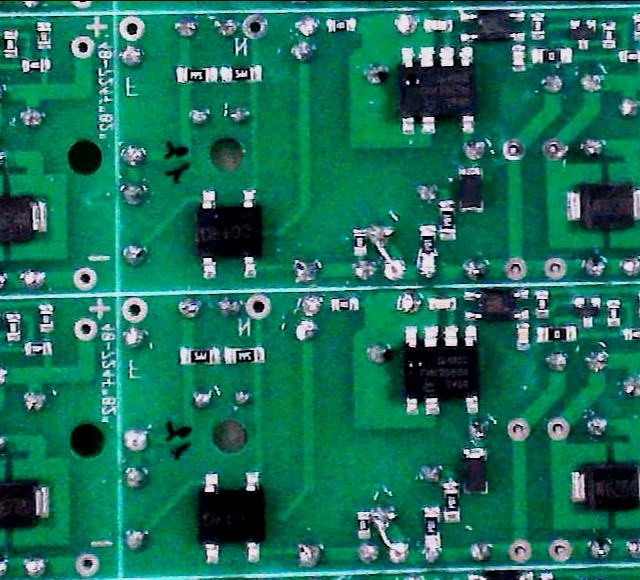chip-capacitor: (516, 322, 529, 349), (424, 18, 452, 30), (428, 297, 456, 309), (511, 46, 525, 69)
chip-resistor: (220, 64, 261, 82), (176, 65, 217, 82), (443, 481, 460, 522), (438, 199, 454, 239), (424, 507, 440, 546), (532, 47, 571, 62), (179, 348, 218, 363), (225, 347, 263, 362), (538, 326, 575, 341), (420, 223, 436, 257), (6, 312, 20, 340), (24, 341, 52, 355), (530, 11, 544, 38), (328, 17, 356, 30), (601, 21, 615, 47), (3, 30, 17, 56), (330, 297, 358, 310), (22, 58, 49, 71), (607, 299, 620, 326), (357, 511, 370, 538), (40, 304, 53, 331), (353, 228, 366, 254), (38, 22, 51, 48), (536, 290, 548, 317), (618, 49, 640, 62), (624, 327, 640, 340)
diode: (565, 181, 640, 227), (569, 462, 640, 508), (0, 479, 50, 527), (0, 194, 46, 243), (463, 447, 487, 494), (459, 166, 482, 211)
ic: (401, 323, 479, 416), (402, 46, 474, 133), (198, 470, 264, 562), (195, 187, 260, 279), (461, 287, 531, 321), (459, 10, 525, 42)
transistor: (570, 18, 596, 49), (575, 296, 601, 326)
